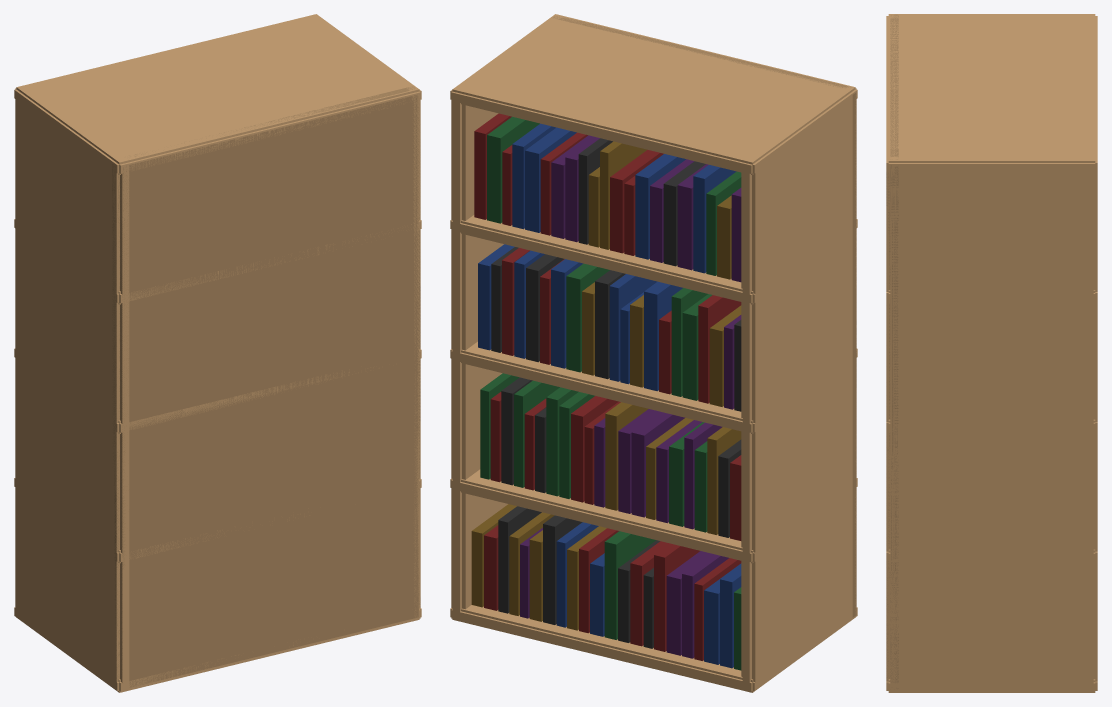
Rendered from palm_bookcase_v0.glb.
The picture shows the model from 3 angles, left to right: view 1: azimuth 30°, elevation 25°; view 2: azimuth 150°, elevation 25°; view 3: azimuth 270°, elevation 25°; orthographic projection.
Parts seen in each view (by area): view 1: palm_bookcase_v0; view 2: palm_bookcase_v0; view 3: palm_bookcase_v0.
Boxes of the visible parts, left/top/right/bottom form: palm_bookcase_v0: left=14, top=14, right=421, bottom=692; palm_bookcase_v0: left=450, top=14, right=857, bottom=692; palm_bookcase_v0: left=886, top=14, right=1097, bottom=692.
Size of the model in its own units: 1.5 by 2.5 by 0.9.
